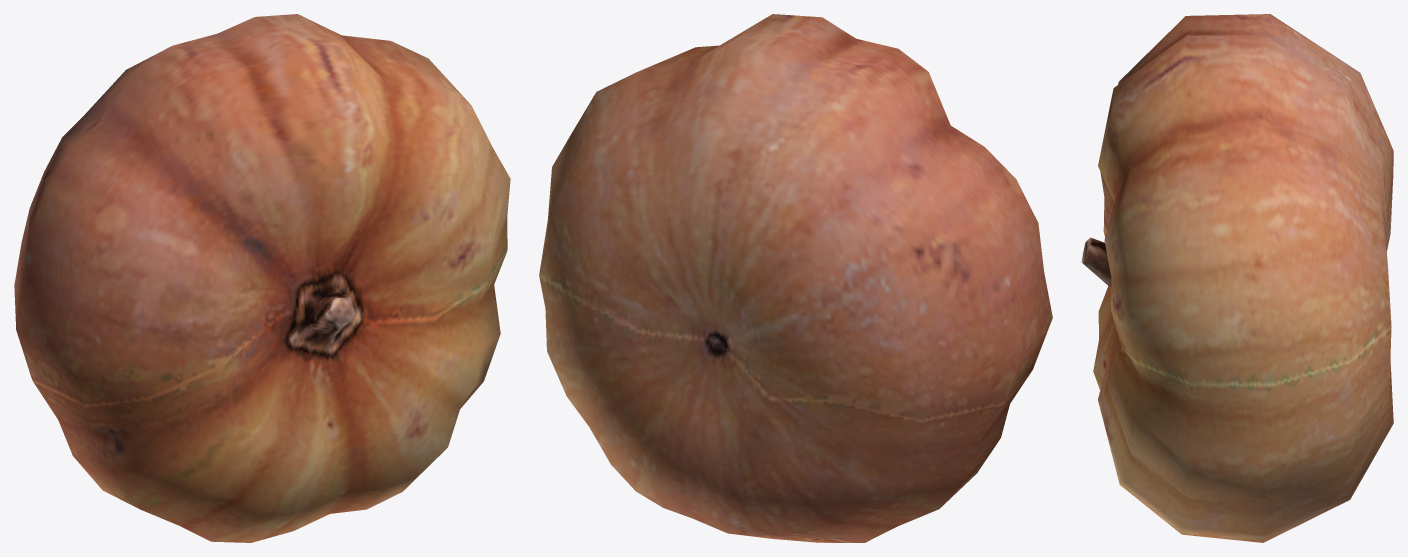
The model's file is hd_dec_UNI_002_Pumpkin.glb.
3 renders of one model, left to right at view 1: azimuth 30°, elevation 25°; view 2: azimuth 150°, elevation 25°; view 3: azimuth 270°, elevation 25°, orthographic. The views are drawn at different scales.
Visible parts, largest first — view 1: set_0_group_0; view 2: set_0_group_0; view 3: set_0_group_0.
Boxes of the visible parts, bbox=[...] form: set_0_group_0: bbox=[14, 14, 510, 542]; set_0_group_0: bbox=[539, 14, 1052, 542]; set_0_group_0: bbox=[1081, 14, 1393, 542].
Size of the model in its own units: 0.3881 by 0.3942 by 0.2377.
1 material, 1 textured.
